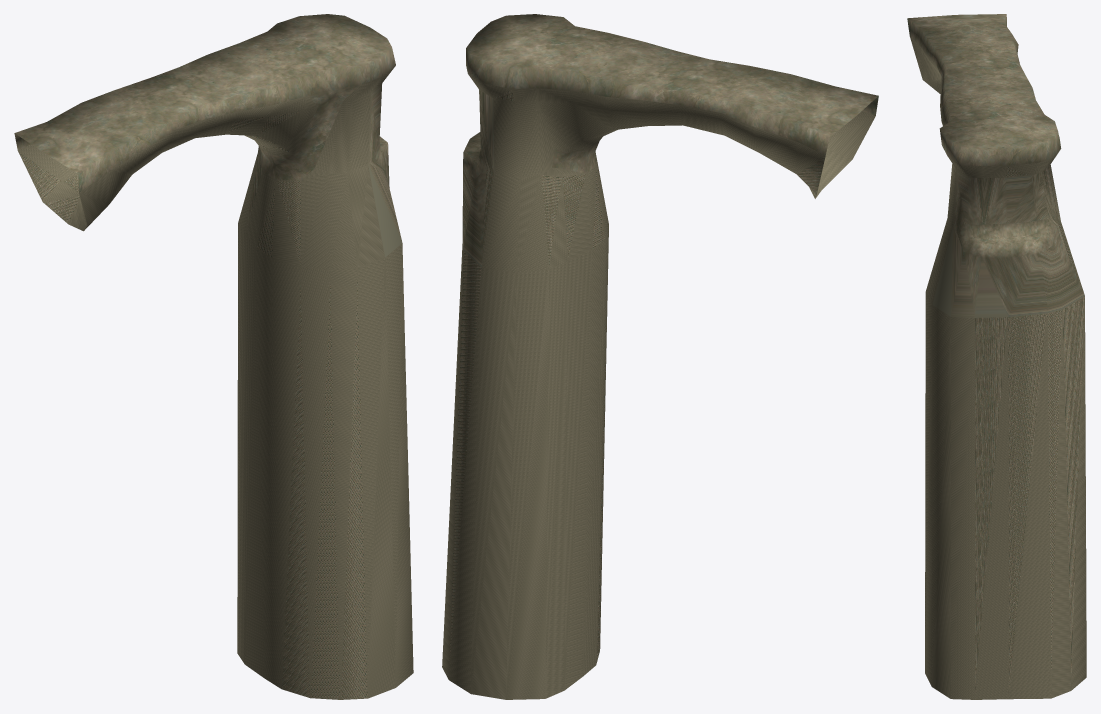
The model's file is OVERHILL_A_01_LINE170.fbx.
3 views of the same model, side by side, from view 1: azimuth 30°, elevation 25°; view 2: azimuth 150°, elevation 25°; view 3: azimuth 270°, elevation 25° (orthographic). The views are drawn at different scales.
Visible parts, largest first — view 1: OVERHILL_A_01_LINE170; view 2: OVERHILL_A_01_LINE170; view 3: OVERHILL_A_01_LINE170.
Part boxes in pixels (x1,y1,x2,y2): OVERHILL_A_01_LINE170: (14,14,413,699); OVERHILL_A_01_LINE170: (442,14,878,699); OVERHILL_A_01_LINE170: (907,14,1086,699).
Bounding box in the file's own units: 84649 × 137940 × 40854.
1 material, 1 textured.
